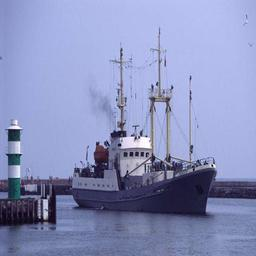Ship: (63, 110, 221, 215)
